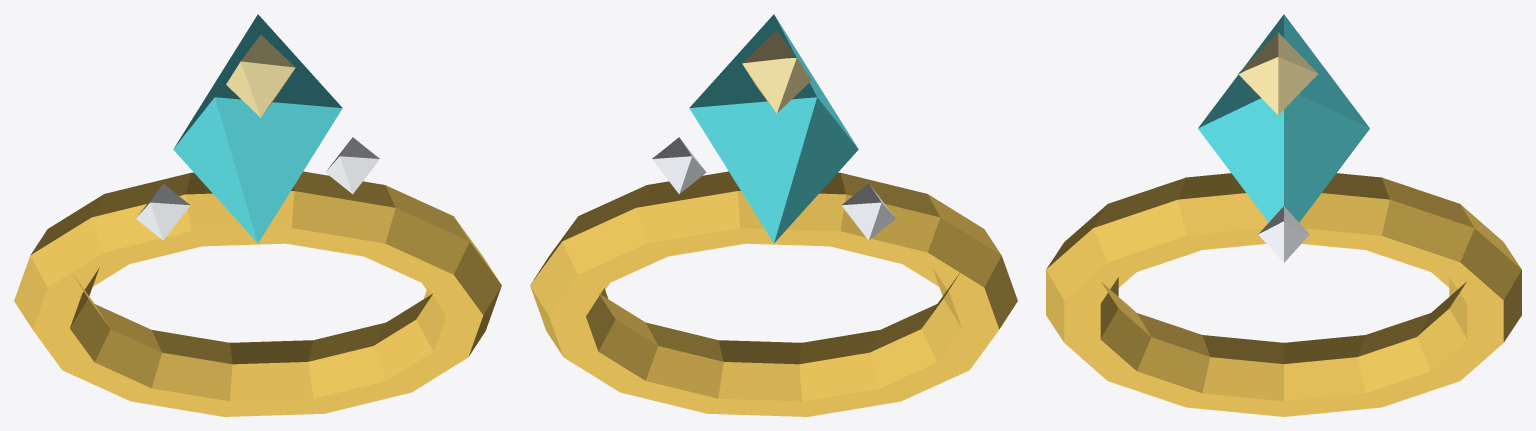
The model's file is minglora_diamond_ring.gltf.
3 renders of one model, left to right at view 1: azimuth 30°, elevation 25°; view 2: azimuth 150°, elevation 25°; view 3: azimuth 270°, elevation 25°, orthographic.
Parts seen in each view (by area): view 1: minglora_diamond_ring_0, minglora_diamond_ring_1, minglora_diamond_ring_2, minglora_diamond_ring_4, minglora_diamond_ring_3; view 2: minglora_diamond_ring_0, minglora_diamond_ring_1, minglora_diamond_ring_2, minglora_diamond_ring_4, minglora_diamond_ring_3; view 3: minglora_diamond_ring_0, minglora_diamond_ring_1, minglora_diamond_ring_2, minglora_diamond_ring_4.
Part boxes in pixels (left/top/right/bottom): minglora_diamond_ring_0: left=14, top=171, right=501, bottom=416; minglora_diamond_ring_1: left=173, top=14, right=342, bottom=242; minglora_diamond_ring_2: left=226, top=34, right=295, bottom=117; minglora_diamond_ring_4: left=325, top=137, right=379, bottom=194; minglora_diamond_ring_3: left=136, top=183, right=190, bottom=240; minglora_diamond_ring_0: left=530, top=171, right=1017, bottom=416; minglora_diamond_ring_1: left=689, top=14, right=858, bottom=242; minglora_diamond_ring_2: left=742, top=30, right=811, bottom=113; minglora_diamond_ring_4: left=652, top=137, right=706, bottom=194; minglora_diamond_ring_3: left=841, top=183, right=895, bottom=240; minglora_diamond_ring_0: left=1046, top=173, right=1521, bottom=416; minglora_diamond_ring_1: left=1198, top=14, right=1369, bottom=222; minglora_diamond_ring_2: left=1238, top=32, right=1317, bottom=115; minglora_diamond_ring_4: left=1258, top=206, right=1309, bottom=262.
Size of the model in its own units: 1.7 by 1.18 by 1.66.
